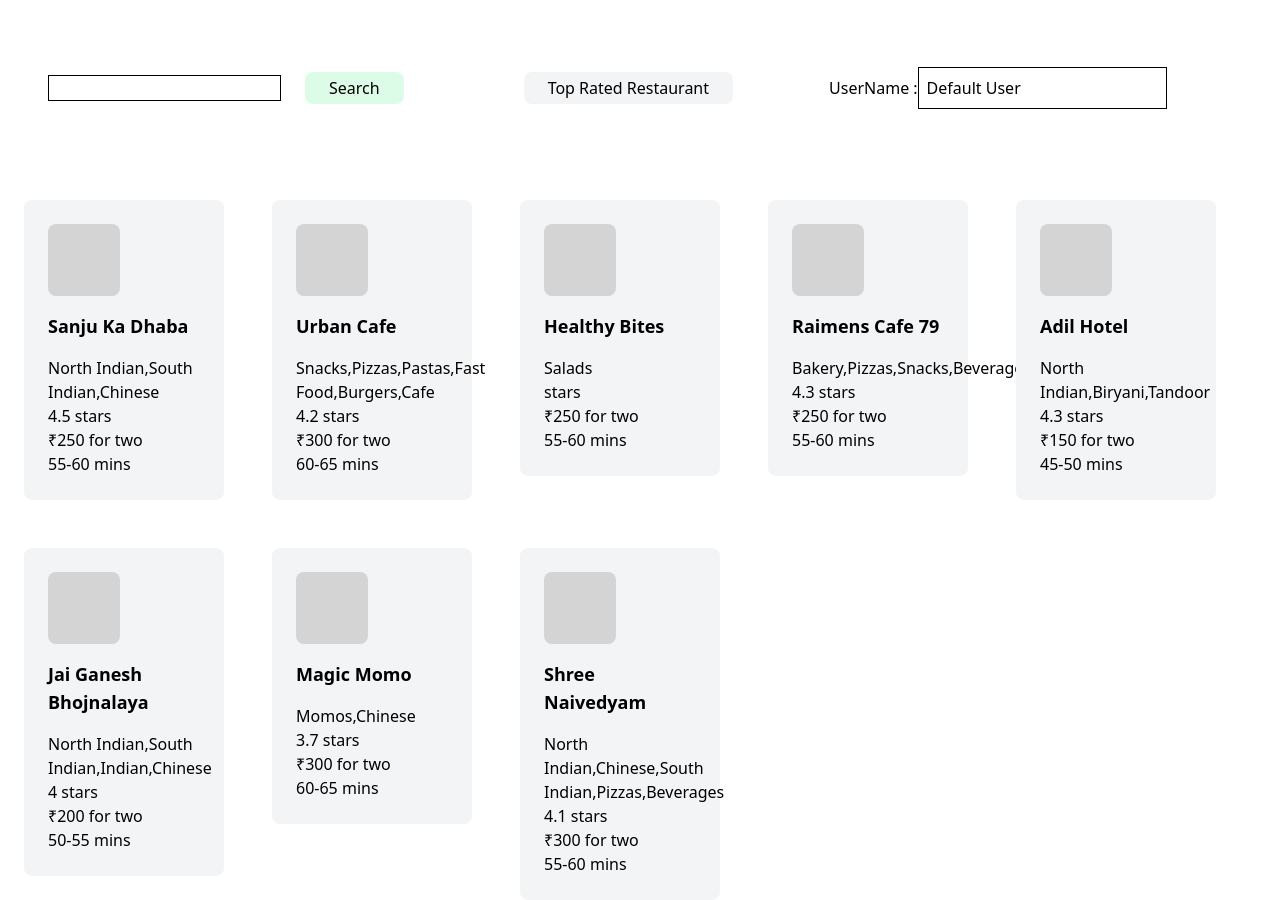
Test: Should search resList for cafe text input
Type "cafe" into the field with test id "searchInput".
click(164, 88); type("cafe")  # box left=48, top=75, right=281, bottom=101
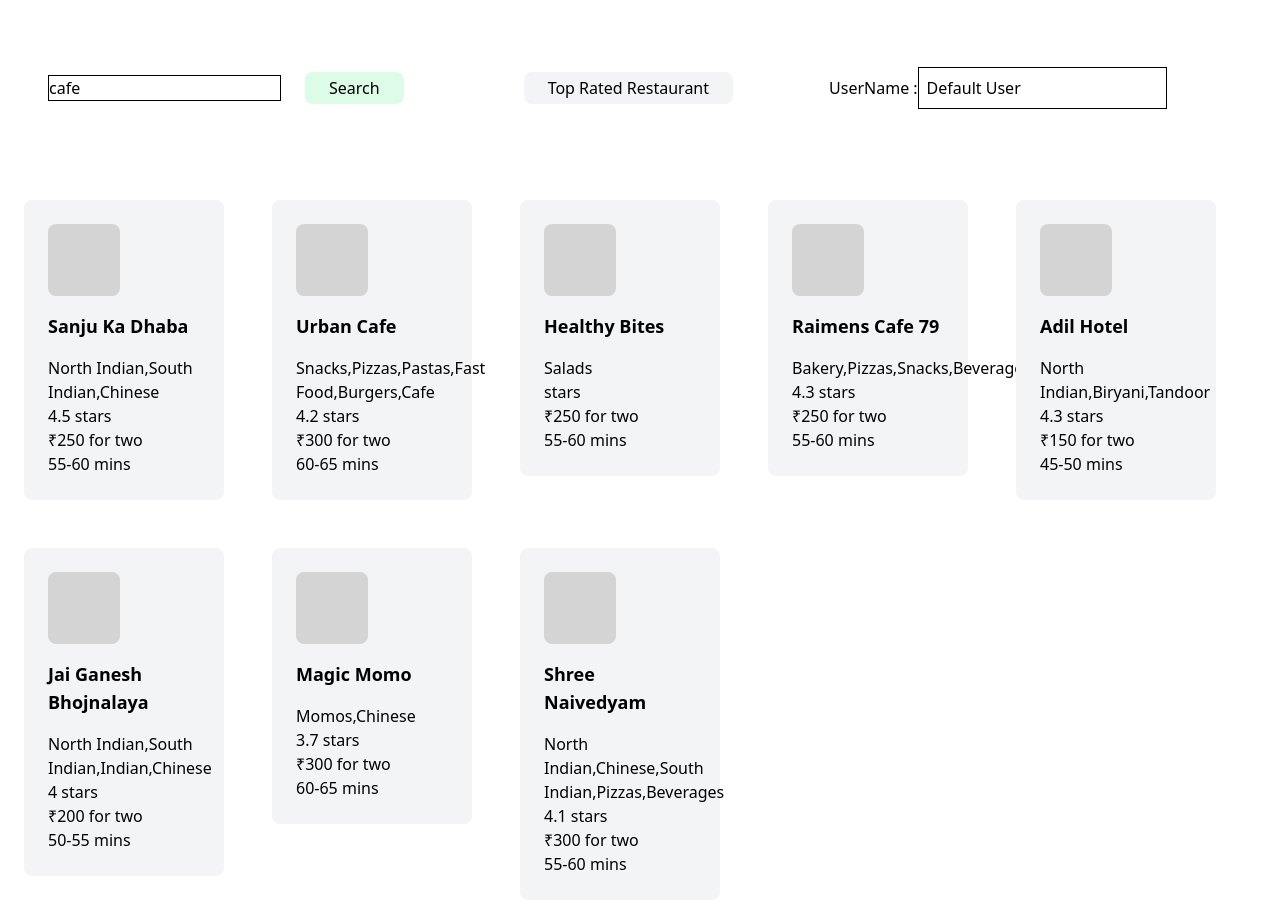
Click the button "Search".
click(354, 88)  # box left=305, top=72, right=404, bottom=104
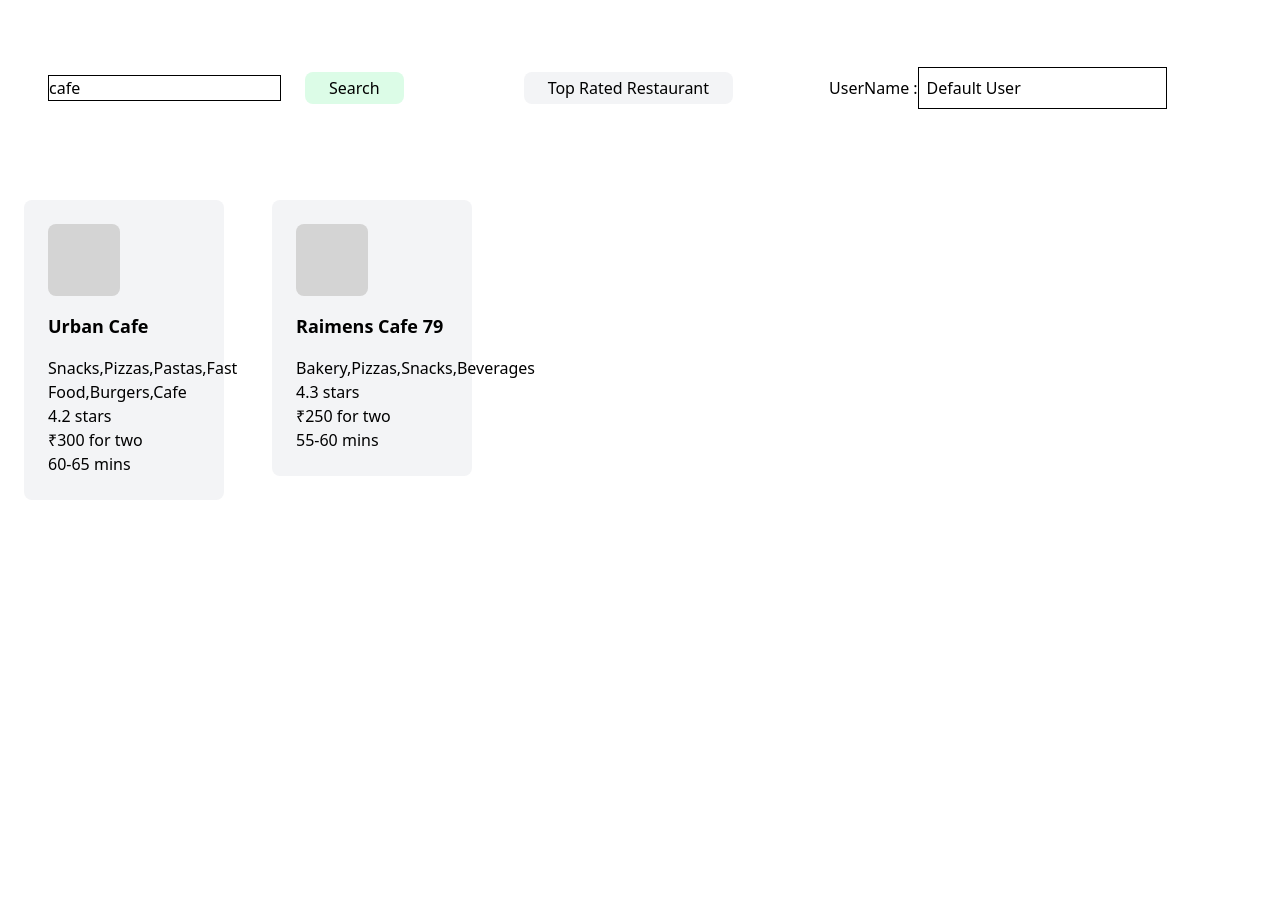
Check: the number of elements with test id "resCard" is 2, box left=24, top=200, right=224, bottom=500; left=272, top=200, right=472, bottom=476
